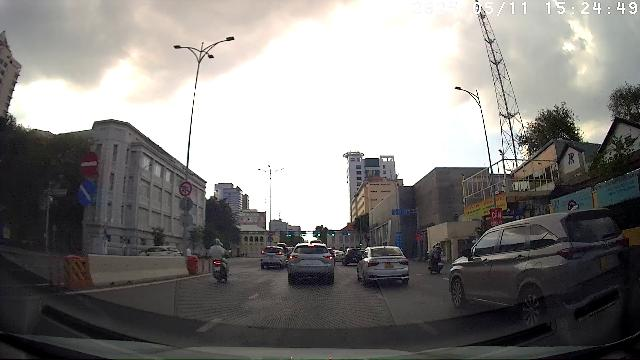102-cam-di-nguoc-chieu: (80, 151, 98, 177)
124b-cam-oto-quay-dau-xe: (178, 182, 192, 197)
302a-huong-phai-di-vong-chuong-ngai-vat-1: (76, 179, 94, 205)
